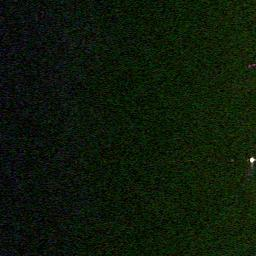Ship: (247, 154, 255, 167)
